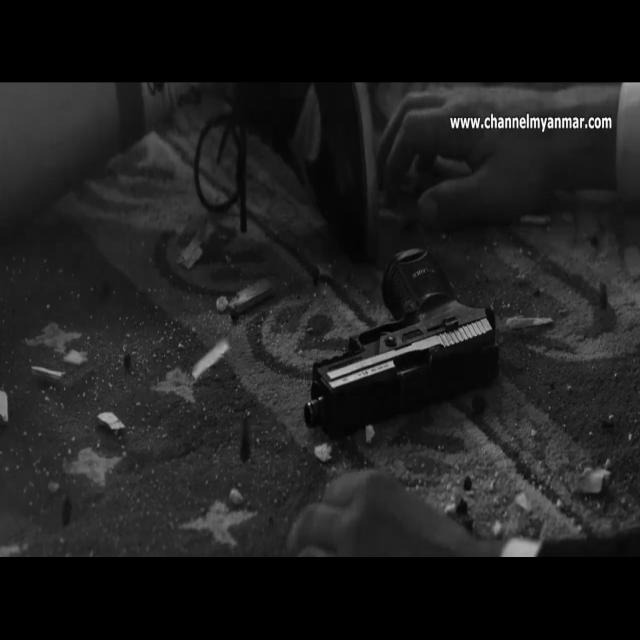gun: (304, 248, 498, 440)
